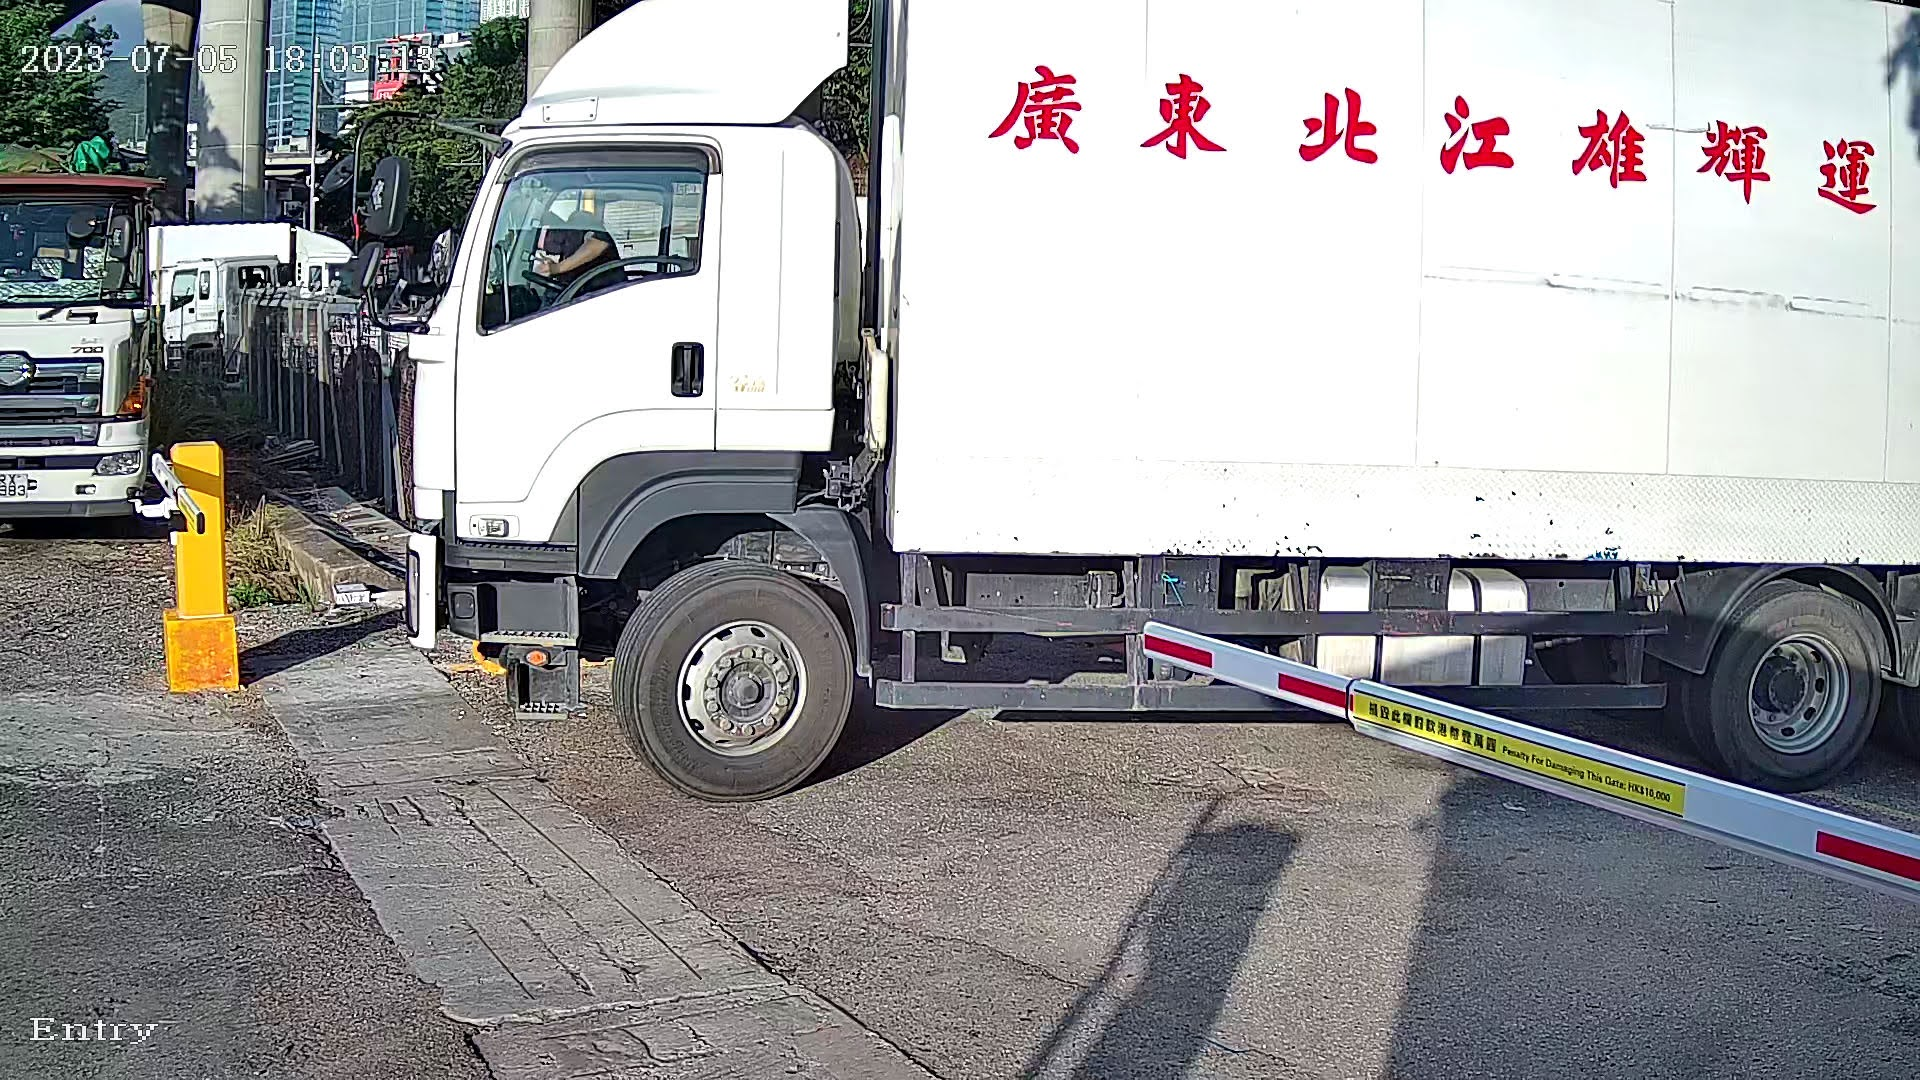truck: (363, 1, 1919, 853)
